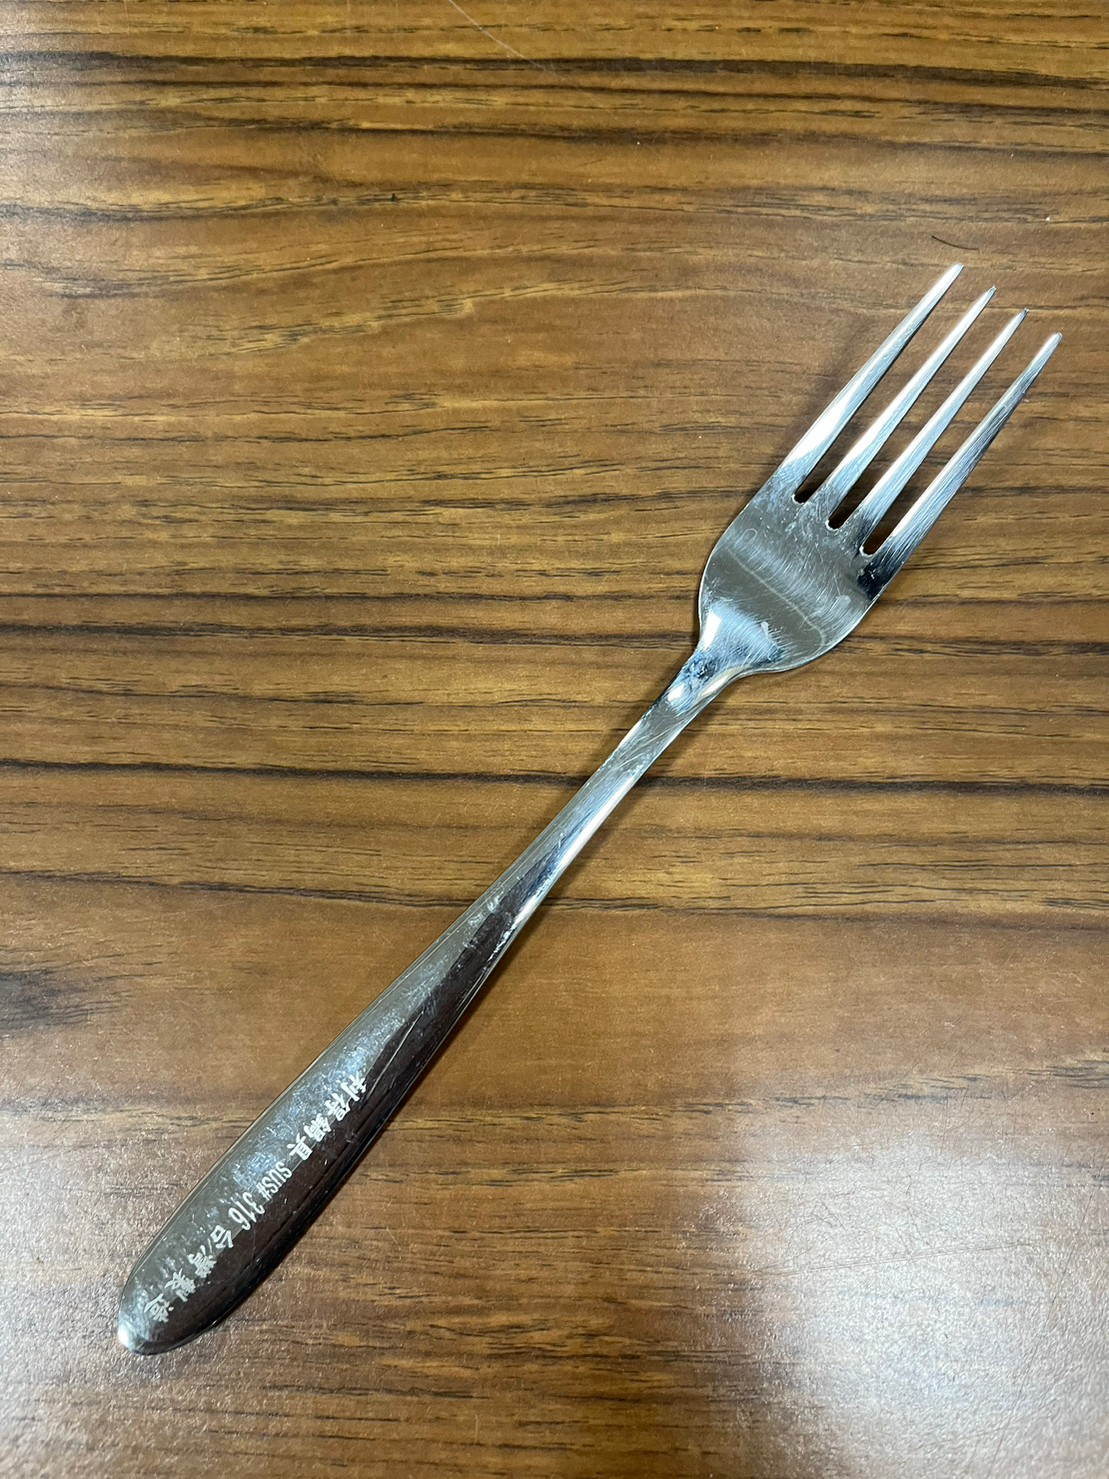fork: (101, 229, 1072, 1371)
